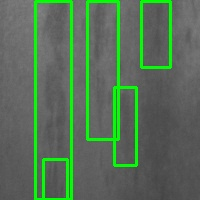inclusion: (35, 1, 71, 199), (88, 1, 119, 139), (141, 1, 170, 67), (114, 87, 136, 165), (43, 159, 67, 199)
